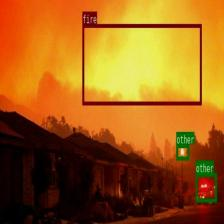fire: (82, 24, 202, 104)
